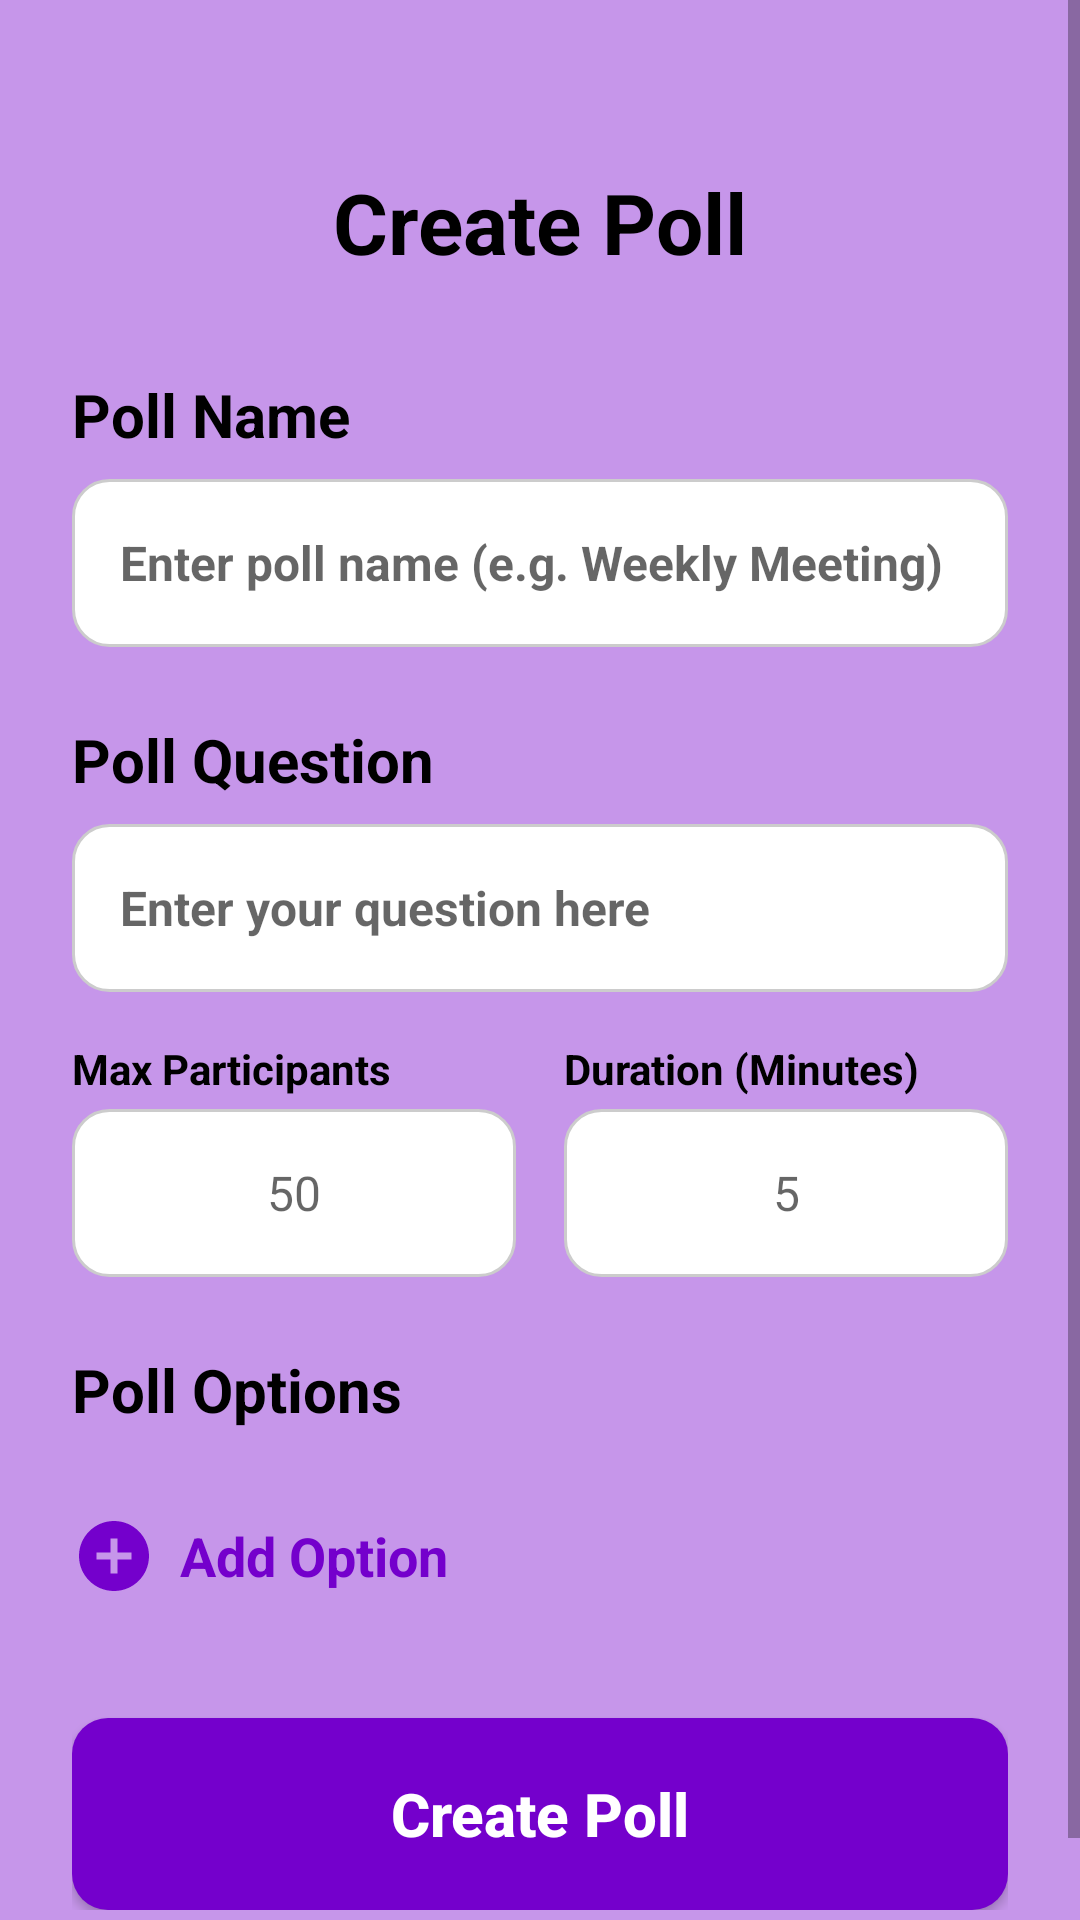

Screen size 1080 x 1920. Icon name, then its center in pixels as (x=x, y=y):
add circle: (x=114, y=1556)
